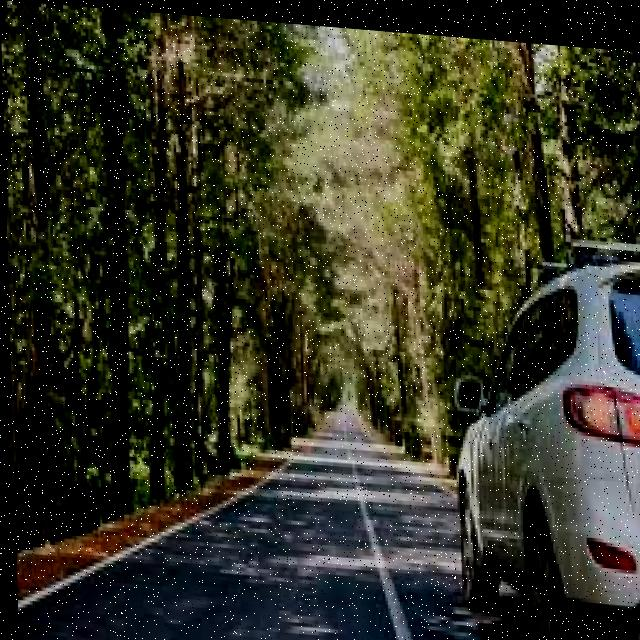car: (404, 193, 640, 640)
